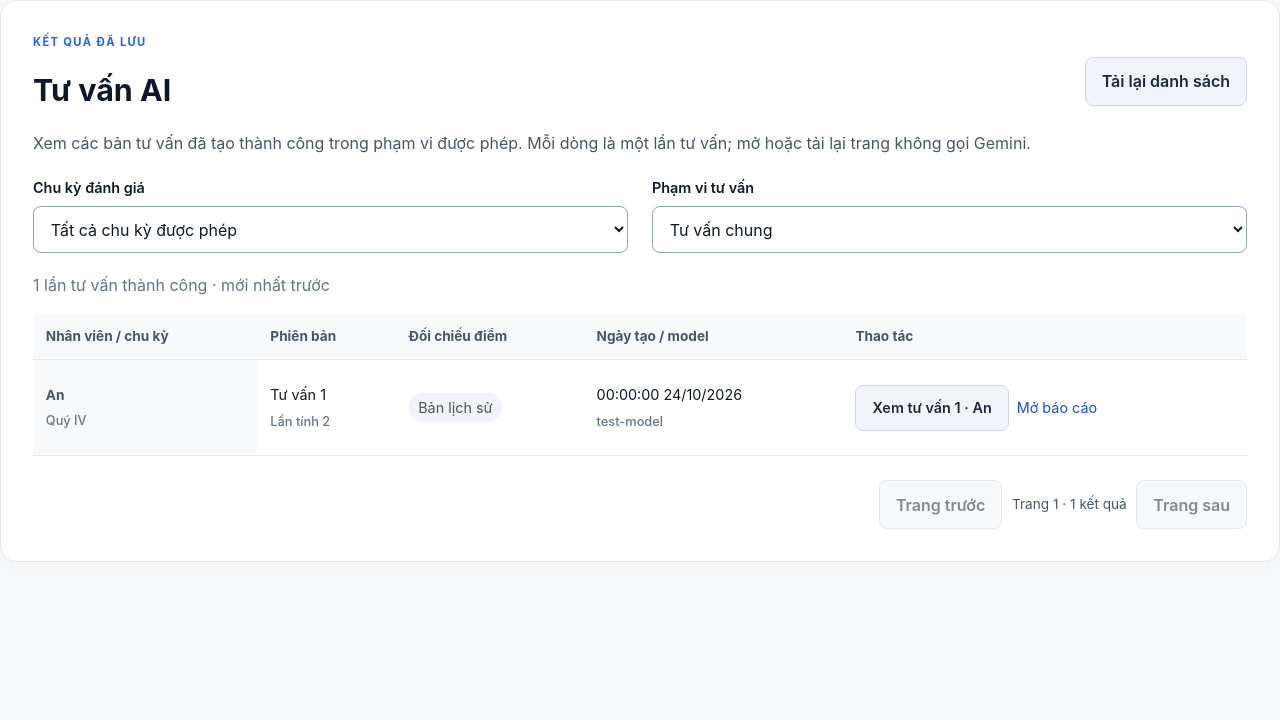
Test: distinguishes historical advice and an empty result
Expected: the text "Bản lịch sử" is shown, [409,393,502,422]
Click the button "Tải lại danh sách": (1166, 81) [1085,57,1247,106]
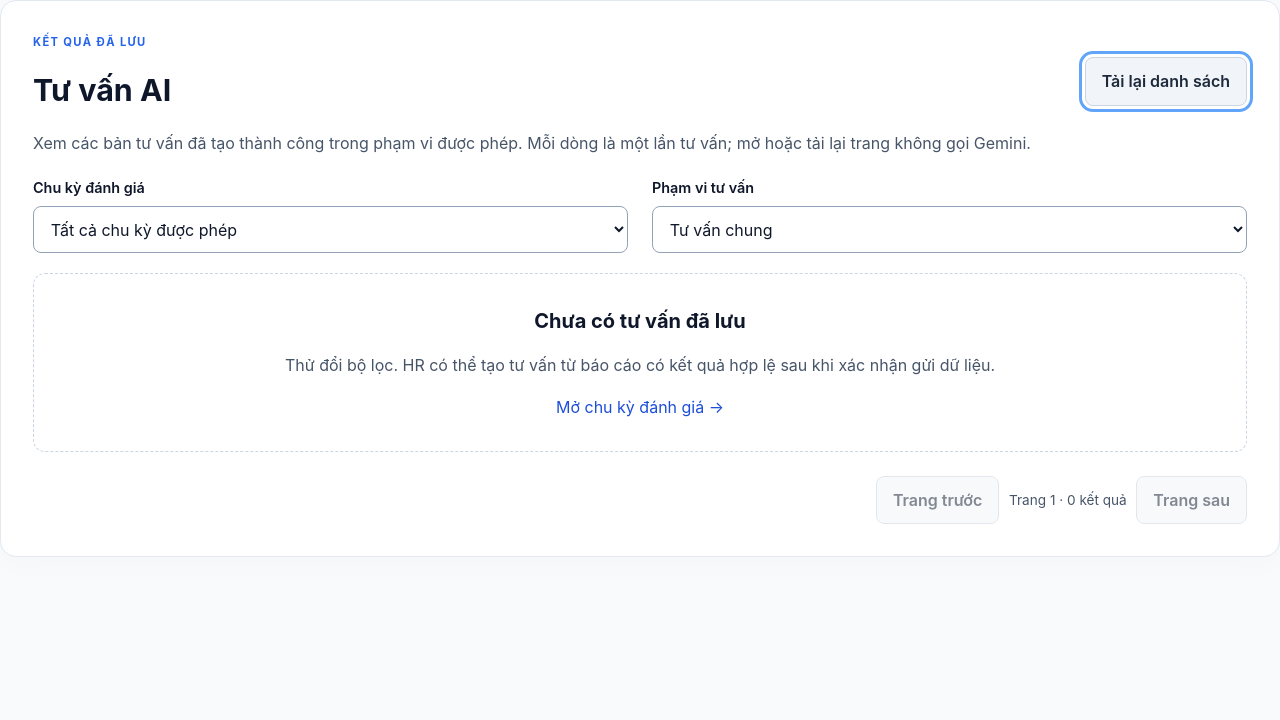
Expected: the button "Trang sau" is disabled, [1136,476,1247,524]
Expected: the heading "Chưa có tư vấn đã lưu" is shown, [534,309,746,333]
